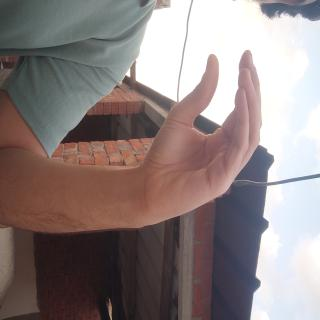JEEM: (33, 73, 181, 275)
